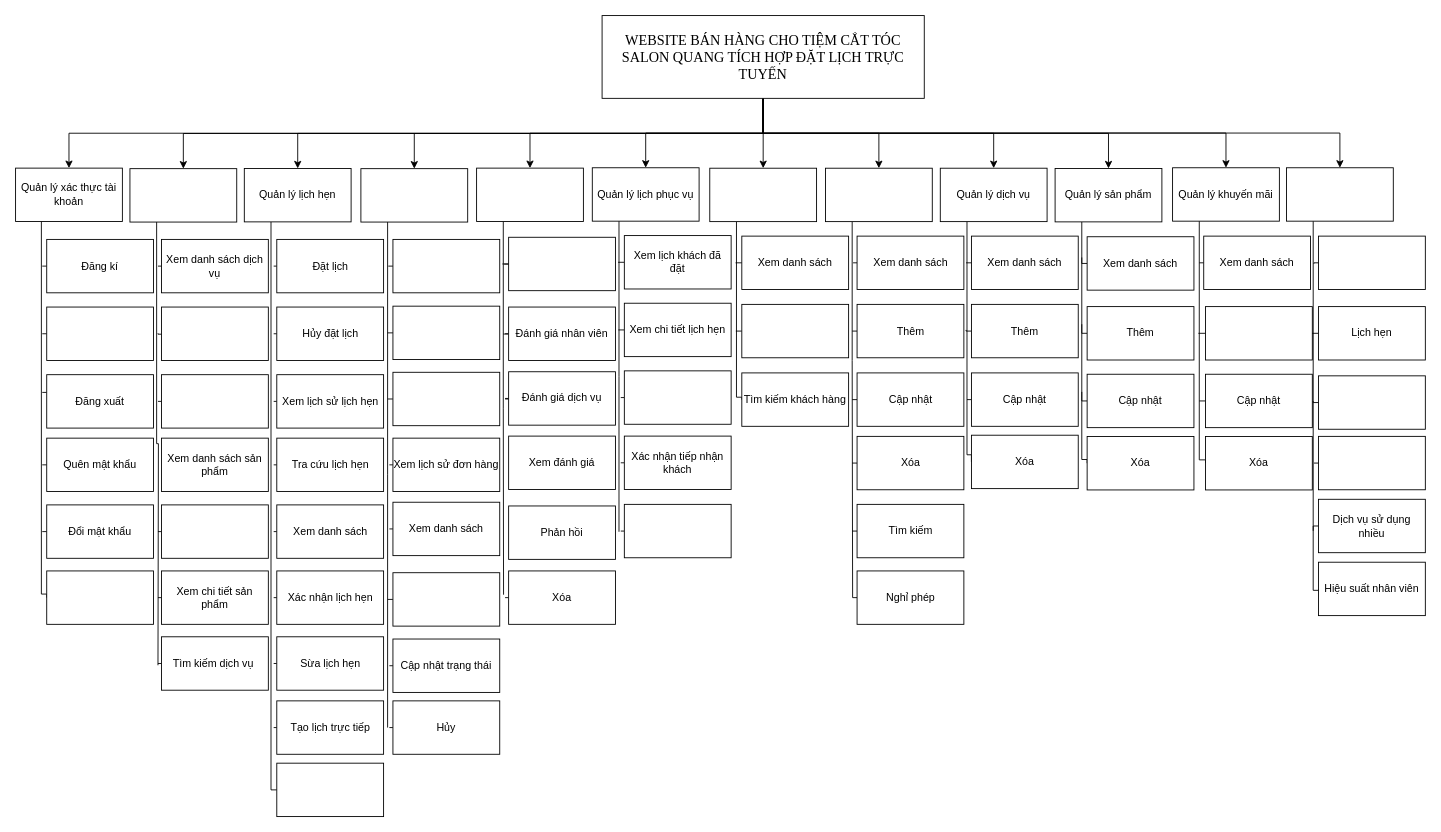
Some shapes in this 1441 by 832 pixel diagram are drawn without their labels. Each missing label, with the centre of its shape:
"Cập nhật thông tin cá nhân" belongs at [100,597].
"Doanh thu" belongs at [1371,262].
"Hủy lịch hẹn" belongs at [330,789].
"Khách hàng" belongs at [1371,462].
"Quản lý khách hàng" belongs at [763,194].
"Quản lý nhân viên" belongs at [878,194].
"Quản lý trạng thái tài khoản" belongs at [795,330].
"Quản lý đánh giá" belongs at [529,194].
"Quản lý đơn hàng" belongs at [414,195].
"Sản phẩm bán chạy" belongs at [1371,402].
"Thanh toán" belongs at [446,398].
"Thêm / cập nhật / xóa giỏ hàng" belongs at [446,266].
"Thống kê báo cáo" belongs at [1339,194].
"Tim kiếm" belongs at [183,195].
"Tìm kiếm sản phẩm" belongs at [214,531].
"Tạo" belongs at [1258,333].
"Xem chi tiết dịch vụ" belongs at [214,333].
"Xem danh sách nhân viên phục vụ" belongs at [214,401].
"Xem dịch vụ khách đã chọn" belongs at [677,397].
"Xác nhận" belongs at [446,599].
"Xác nhận hoàn thành dịch vụ" belongs at [677,530].
"Đánh giá sản phẩm" belongs at [561,263].
"Đăng nhập" belongs at [100,333].
"Đặt hàng" belongs at [446,332].
